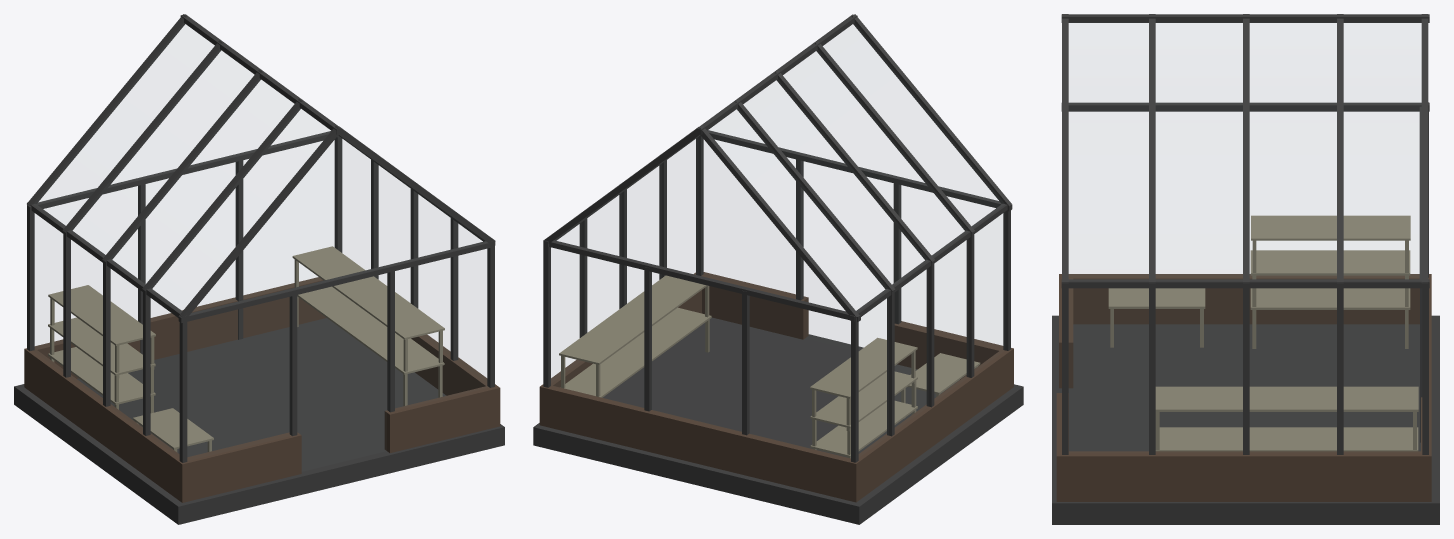
Rendered from greenhousedraft.fbx.
3 views of the same model, side by side, from view 1: azimuth 30°, elevation 25°; view 2: azimuth 150°, elevation 25°; view 3: azimuth 270°, elevation 25° (orthographic). The views are drawn at different scales.
Visible parts, largest first — view 1: pCube2, pCube36, pCube37, pCube38, pCube5, pCube24, pCube4, pCube25, pCube10, pCube14, pCube18, pCube31 (+20 smaller); view 2: pCube2, pCube36, pCube37, pCube38, pCube5, pCube25, pCube4, pCube24, pCube31, pCube10, pCube11, pCube14 (+20 smaller); view 3: pCube2, pCube36, pCube37, pCube38, pCube5, pCube4, pCube3, pCube28, pCube29, pCube30, pCube1, pCube13 (+10 smaller).
Boxes of the visible parts, x1=… form: pCube2: x1=14, y1=318, x2=504, y2=524; pCube36: x1=24, y1=277, x2=500, y2=502; pCube37: x1=292, y1=246, x2=444, y2=371; pCube38: x1=297, y1=286, x2=444, y2=406; pCube5: x1=48, y1=285, x2=155, y2=377; pCube24: x1=178, y1=241, x2=490, y2=322; pCube4: x1=48, y1=317, x2=155, y2=402; pCube25: x1=27, y1=131, x2=339, y2=211; pCube10: x1=179, y1=126, x2=338, y2=317; pCube14: x1=142, y1=99, x2=302, y2=291; pCube18: x1=102, y1=69, x2=261, y2=262; pCube31: x1=62, y1=41, x2=222, y2=233; pCube2: x1=533, y1=317, x2=1023, y2=524; pCube36: x1=539, y1=272, x2=1013, y2=502; pCube37: x1=559, y1=275, x2=709, y2=396; pCube38: x1=564, y1=307, x2=711, y2=397; pCube5: x1=810, y1=337, x2=917, y2=431; pCube25: x1=549, y1=240, x2=860, y2=322; pCube4: x1=810, y1=371, x2=917, y2=457; pCube24: x1=707, y1=130, x2=1012, y2=211; pCube31: x1=735, y1=100, x2=894, y2=291; pCube10: x1=851, y1=14, x2=1011, y2=206; pCube11: x1=700, y1=126, x2=859, y2=317; pCube14: x1=816, y1=42, x2=974, y2=233; pCube2: x1=1052, y1=315, x2=1439, y2=524; pCube36: x1=1056, y1=274, x2=1431, y2=501; pCube37: x1=1155, y1=386, x2=1418, y2=449; pCube38: x1=1155, y1=427, x2=1418, y2=451; pCube5: x1=1251, y1=215, x2=1410, y2=279; pCube4: x1=1250, y1=250, x2=1410, y2=312; pCube3: x1=1250, y1=288, x2=1410, y2=348; pCube28: x1=1061, y1=279, x2=1429, y2=288; pCube29: x1=1061, y1=102, x2=1429, y2=111; pCube30: x1=1061, y1=14, x2=1429, y2=22; pCube1: x1=1108, y1=288, x2=1205, y2=347; pCube13: x1=1421, y1=18, x2=1428, y2=283.
Size of the model in its own units: 27.36 by 28.36 by 23.86.
